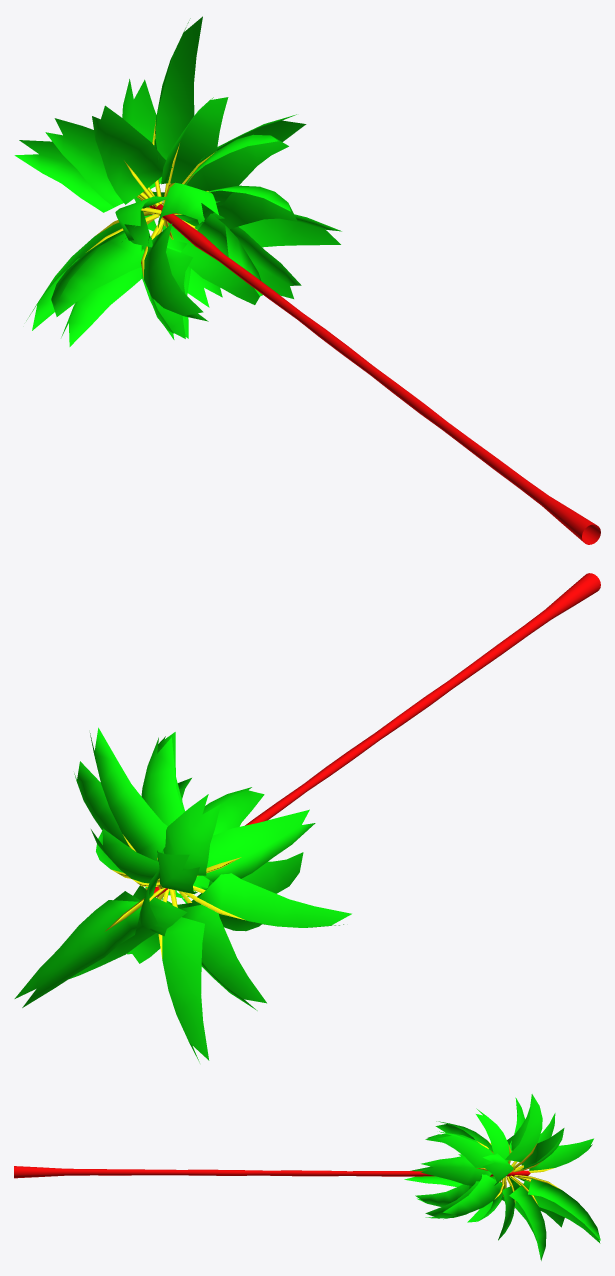
Rendered from M_P10_Tree_9.FBX.
3 views of the same model, one above another, from view 1: azimuth 30°, elevation 25°; view 2: azimuth 150°, elevation 25°; view 3: azimuth 270°, elevation 25° (orthographic). The views are drawn at different scales.
Parts seen in each view (by area): view 1: M_P10_Tree_9_LOD0; view 2: M_P10_Tree_9_LOD0; view 3: M_P10_Tree_9_LOD0.
Boxes of the visible parts, x1,y1,x2,y2 form: M_P10_Tree_9_LOD0: (14,16,600,544); M_P10_Tree_9_LOD0: (14,573,600,1062); M_P10_Tree_9_LOD0: (14,1094,600,1260).
Size of the model in its own units: 268 by 884 by 284.
